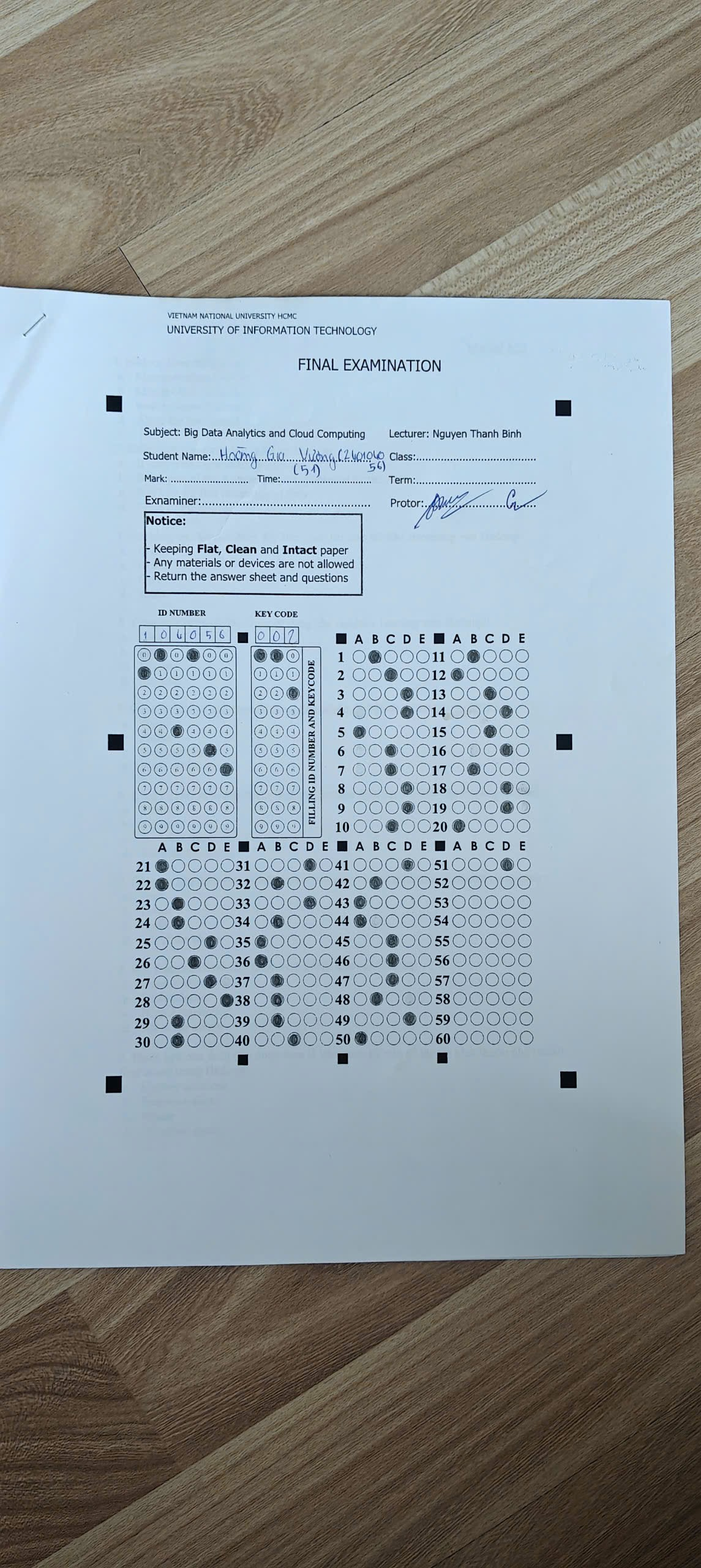paper_region: (111, 403, 567, 1084)
